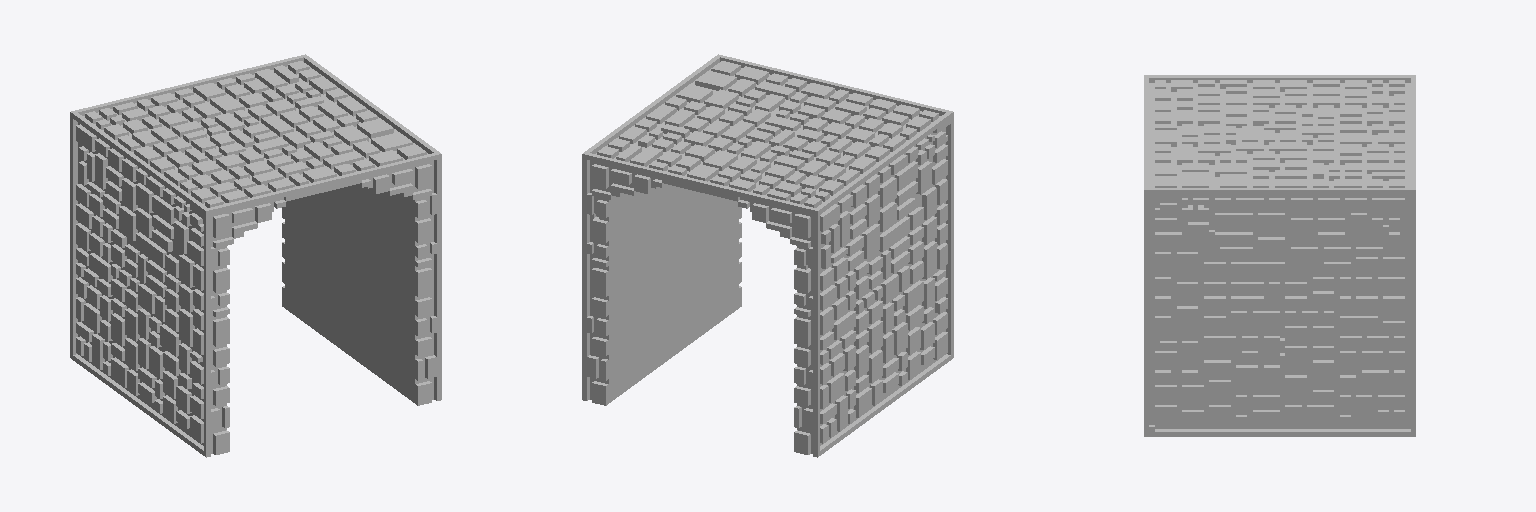
The model's file is барьер 12.obj.
3 renders of one model, left to right at view 1: azimuth 30°, elevation 25°; view 2: azimuth 150°, elevation 25°; view 3: azimuth 270°, elevation 25°, orthographic.
Visible parts, largest first — view 1: object 1; view 2: object 1; view 3: object 1.
Boxes of the visible parts, box(x1,y1,x2,y2) form: object 1: box(70, 54, 441, 457); object 1: box(582, 54, 953, 457); object 1: box(1144, 75, 1415, 436).
Bounding box in the file's own units: 5 × 5 × 5.